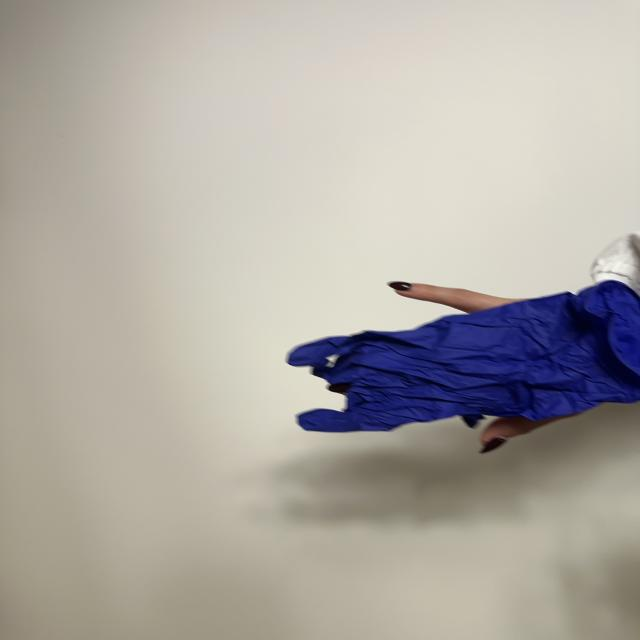glove_not_fitted: (288, 281, 640, 452)
